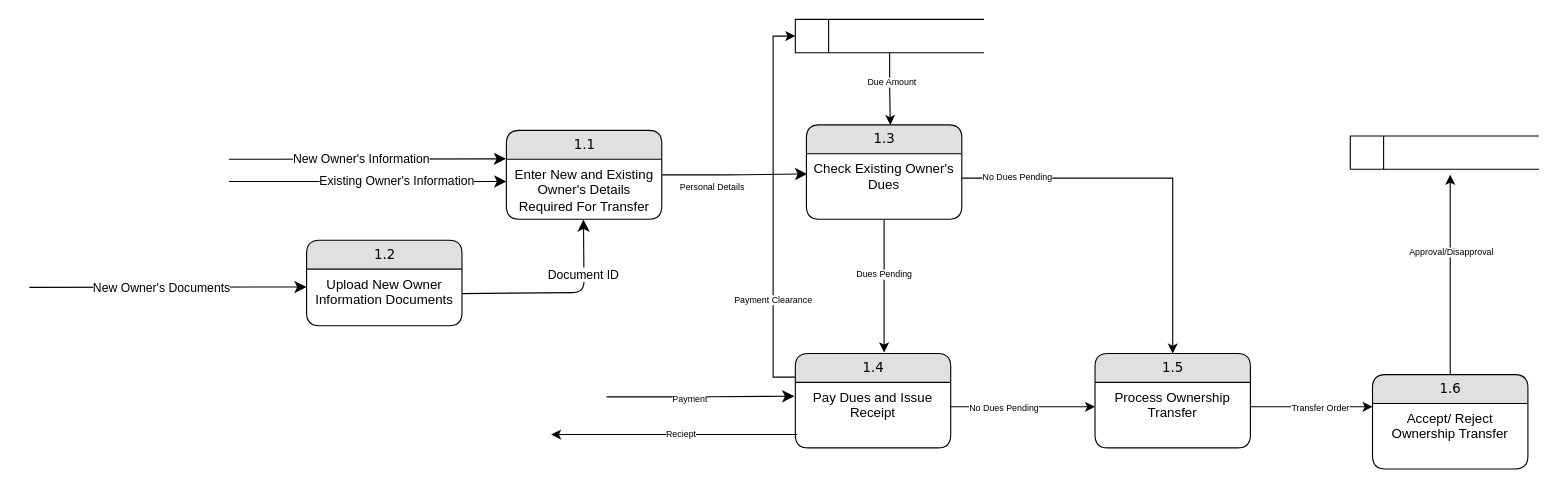
The diagram is 1558 pixels wide and 488 high, and some of its shapes have lost their labels. Here are the shapes that lost their labels. From the top down, the centre of each, then its label:
point (889, 35): D1 User Dues Record
point (1444, 152): D2 User Record
